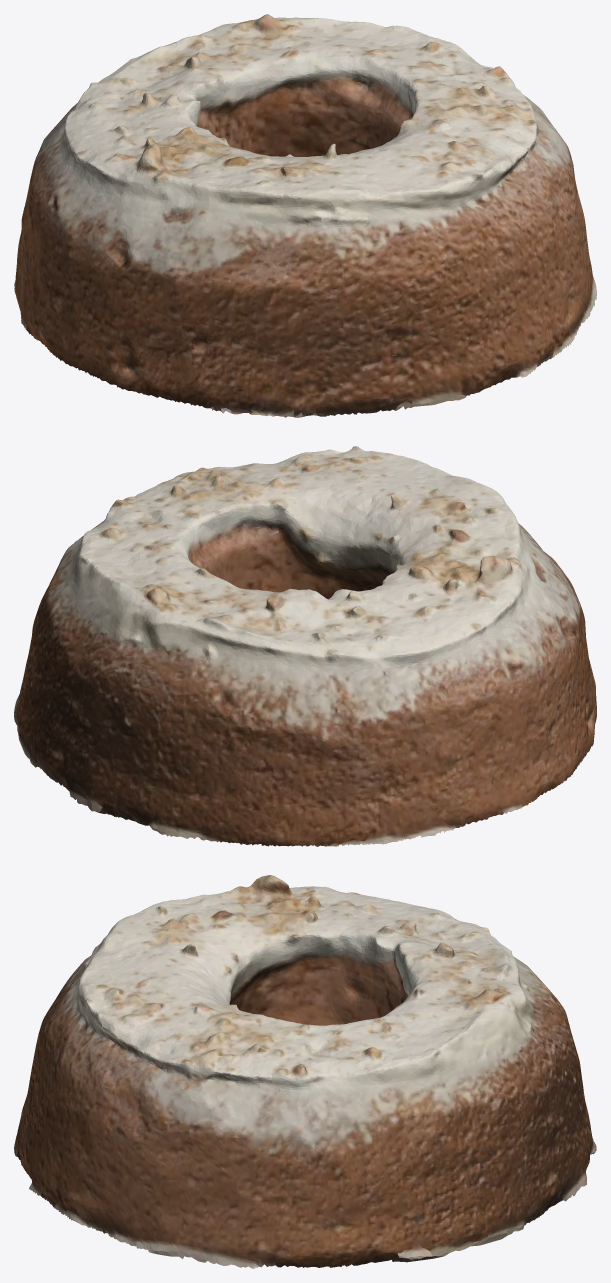
Rendered from torta-tres-leches-3d-2.glb.
3 views of the same model, one above another, from view 1: azimuth 30°, elevation 25°; view 2: azimuth 150°, elevation 25°; view 3: azimuth 270°, elevation 25° (orthographic). The views are drawn at different scales.
Parts seen in each view (by area): view 1: plato; view 2: plato; view 3: plato.
Boxes of the visible parts, bbox=[...] form: plato: bbox=[14, 14, 596, 417]; plato: bbox=[14, 446, 596, 846]; plato: bbox=[14, 875, 596, 1268].
Size of the model in its own units: 0.2188 by 0.0832 by 0.225.
Materials: 1 (1 with a texture image).
